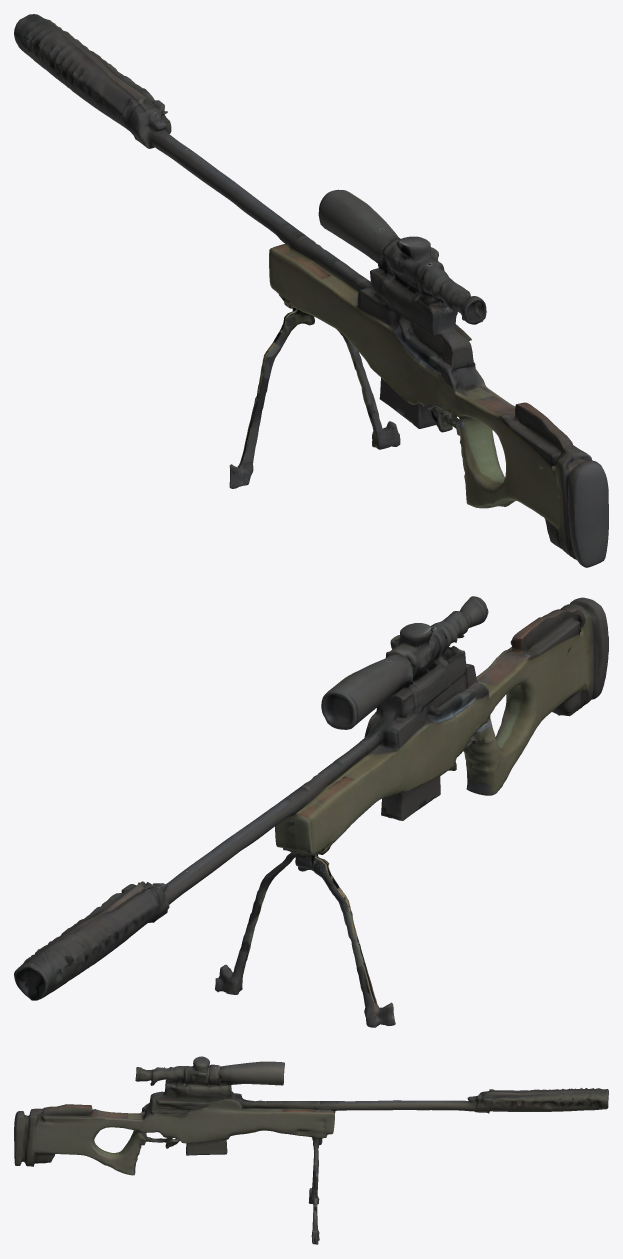
Rendered from awm.glb.
3 views of the same model, one above another, from view 1: azimuth 30°, elevation 25°; view 2: azimuth 150°, elevation 25°; view 3: azimuth 270°, elevation 25° (orthographic). The views are drawn at different scales.
Parts seen in each view (by area): view 1: AWM, awm_bipod_Mesh_0.001, awm_mag_Mesh_0.001; view 2: AWM, awm_bipod_Mesh_0.001, awm_mag_Mesh_0.001; view 3: AWM, awm_bipod_Mesh_0.001, awm_mag_Mesh_0.001.
Part boxes in pixels (x1=…): AWM: x1=14, y1=14, x2=608, y2=567; awm_bipod_Mesh_0.001: x1=229, y1=308, x2=400, y2=488; awm_mag_Mesh_0.001: x1=379, y1=378, x2=435, y2=428; AWM: x1=14, y1=596, x2=608, y2=1000; awm_bipod_Mesh_0.001: x1=215, y1=852, x2=395, y2=1027; awm_mag_Mesh_0.001: x1=381, y1=776, x2=440, y2=820; AWM: x1=14, y1=1056, x2=608, y2=1175; awm_bipod_Mesh_0.001: x1=308, y1=1137, x2=322, y2=1244; awm_mag_Mesh_0.001: x1=186, y1=1139, x2=227, y2=1155.
Size of the model in its own units: 0.2191 by 0.3718 by 1.23.
Materials: 1 (1 with a texture image).
